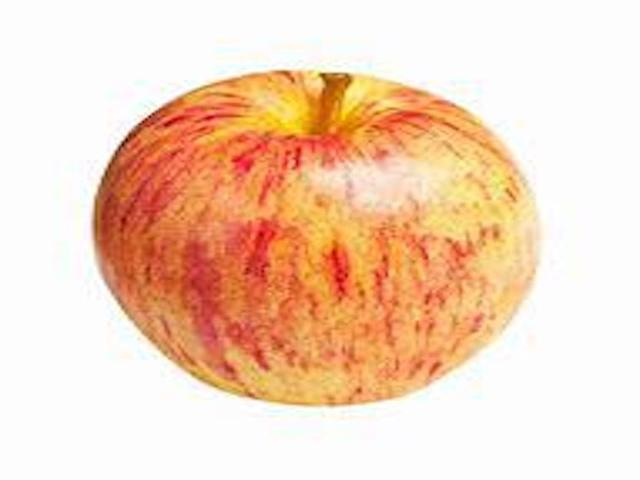apple: (85, 60, 548, 413)
